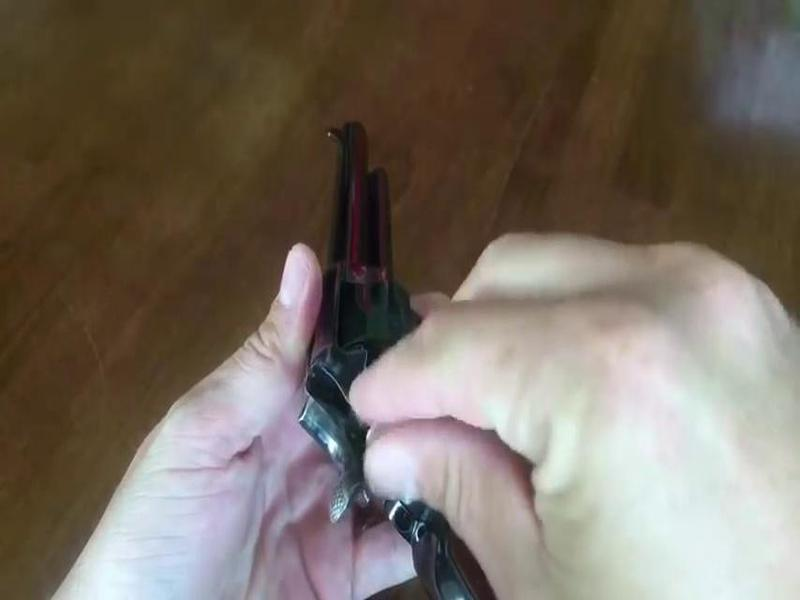Revolver: (257, 115, 465, 496)
